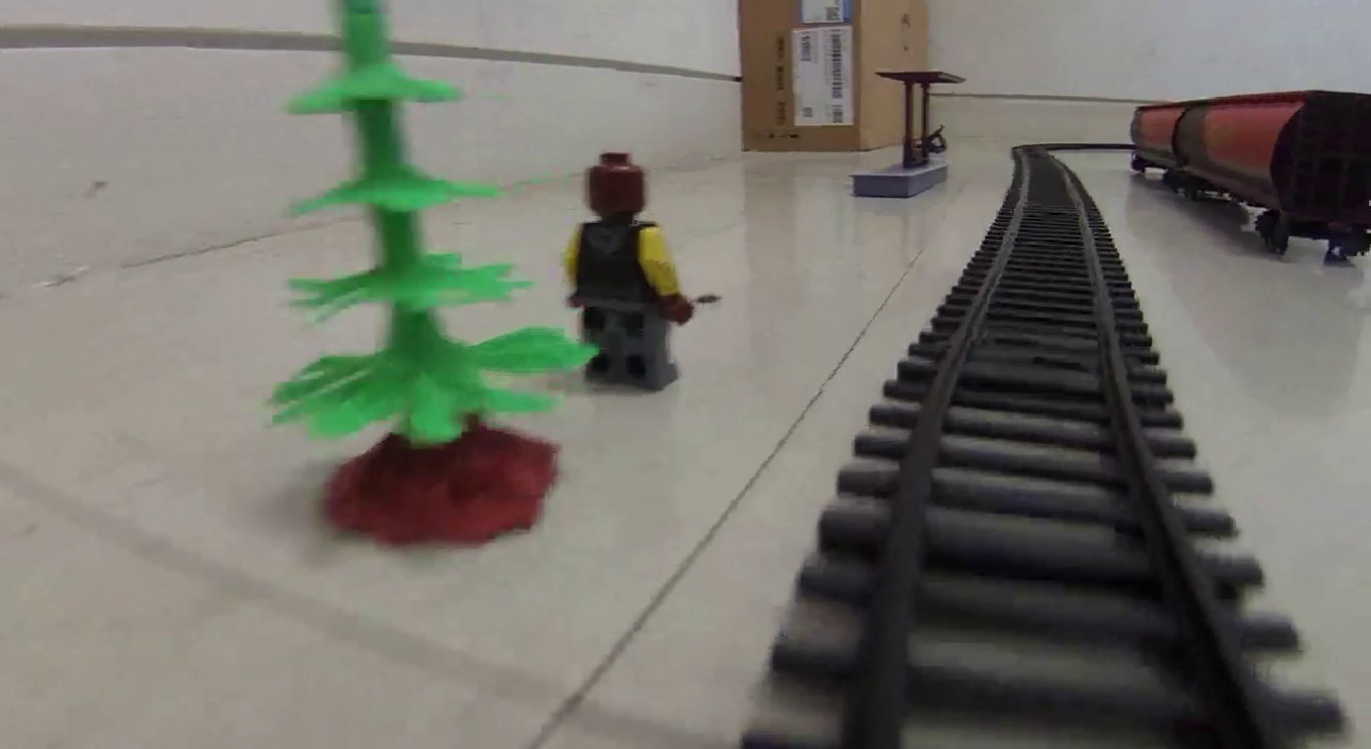people: (569, 152, 694, 391)
tree: (266, 3, 571, 541)
